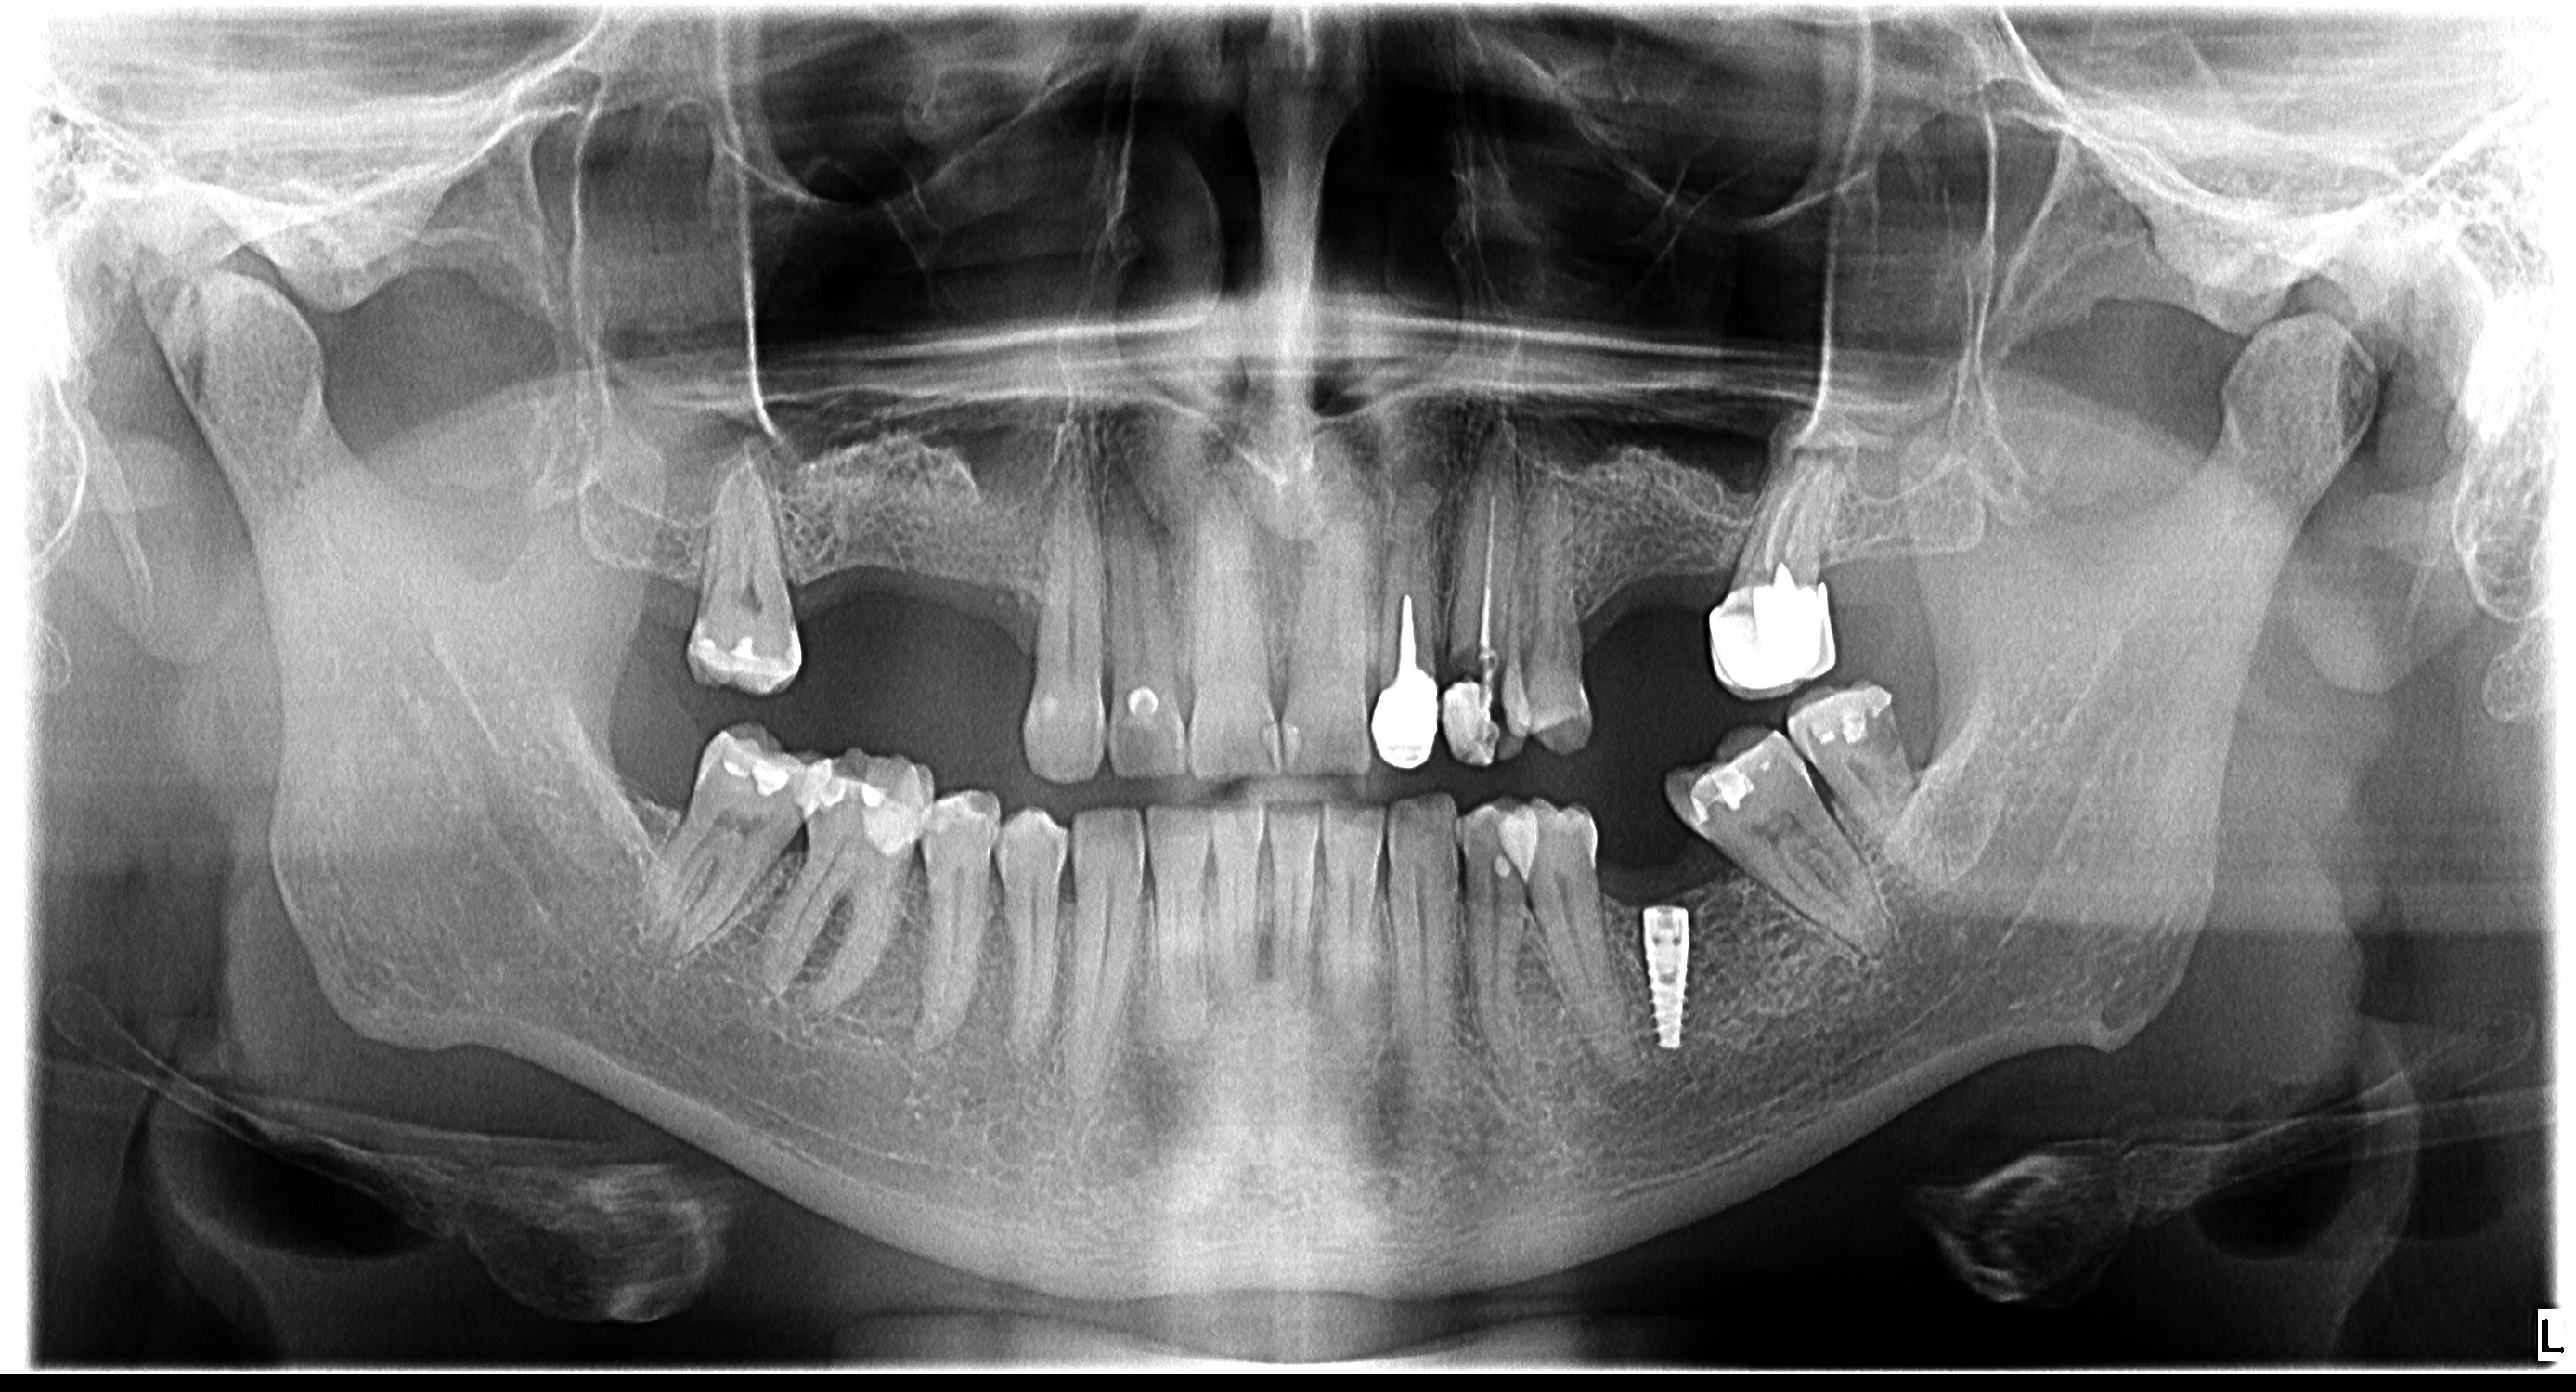API: (1374, 429, 1459, 509), (1783, 429, 1867, 482)
CAR: (1432, 615, 1499, 705), (1840, 699, 1923, 770), (1689, 782, 1757, 833), (796, 789, 856, 835)
END: (1745, 461, 1845, 578), (1459, 444, 1512, 643)
IMP: (1625, 897, 1711, 1059)
OBT: (814, 747, 937, 871), (1780, 665, 1911, 756), (678, 629, 800, 699), (704, 715, 802, 802), (1446, 669, 1499, 780), (909, 782, 997, 840), (1242, 710, 1291, 777), (1279, 713, 1324, 777), (1478, 843, 1524, 895), (1709, 753, 1747, 814), (1661, 787, 1720, 826), (1122, 674, 1165, 723), (1031, 682, 1064, 734)
PRR: (1685, 579, 1853, 705), (1358, 660, 1449, 777)
